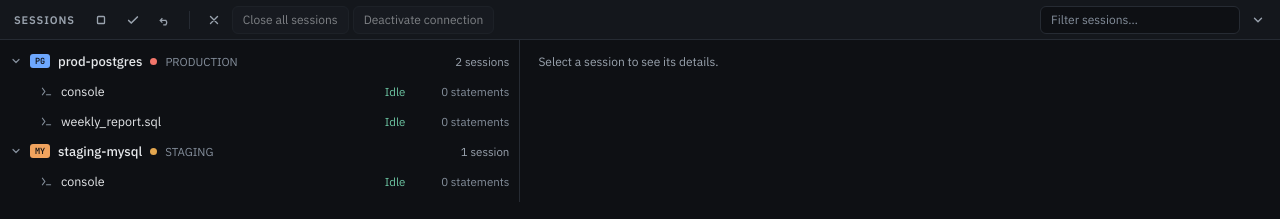
Scenario: filter and tree (spec: session-manager › Filter) › keeps only sessions whose names match, with their connections
In the field labelled "Filter sessions": (1140, 20) [1040,6,1240,34], type "report"
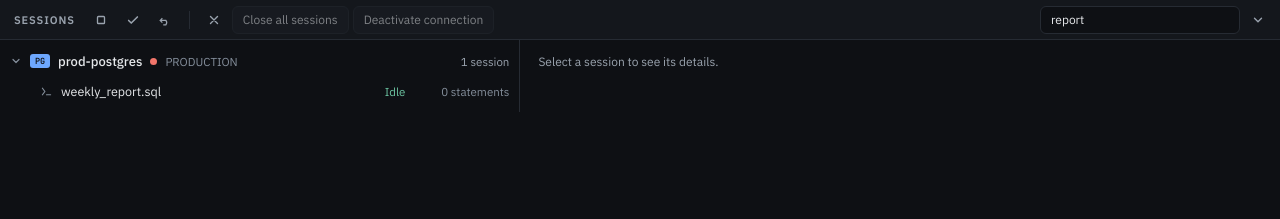
Expected: the text "weekly_report.sql" is shown, [61,83,161,99]
Result: the number of list items is 2 at [10,52,509,70]; [40,83,509,99]
Result: the text "staging-mysql" is gone
